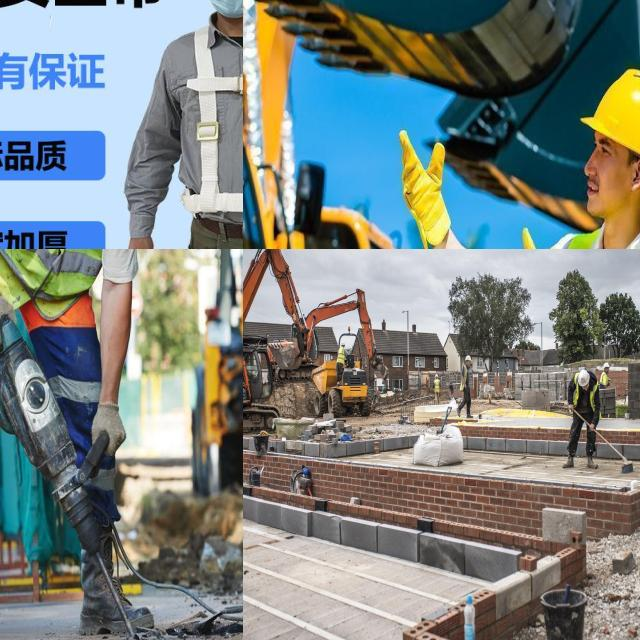Harness: (180, 22, 243, 249)
No_Ear-Protection: (628, 154, 640, 197)
face_nomask: (578, 131, 630, 218)
hand_glove: (400, 127, 454, 249), (90, 396, 132, 460), (515, 226, 574, 249), (0, 291, 21, 349)
head_helmet: (581, 69, 640, 168), (576, 370, 590, 387), (463, 352, 475, 363), (432, 371, 439, 379), (604, 361, 611, 367), (342, 343, 347, 349)
person: (0, 249, 163, 640), (540, 62, 640, 249), (570, 371, 602, 469), (459, 354, 477, 416), (428, 369, 444, 399), (336, 339, 350, 369)
shoes: (73, 541, 152, 640), (585, 453, 599, 471), (561, 454, 576, 470), (456, 405, 462, 418), (466, 412, 474, 420)
vest: (0, 249, 140, 327), (569, 384, 598, 406), (463, 366, 472, 388), (601, 372, 610, 387), (338, 352, 346, 362), (436, 378, 440, 388)
